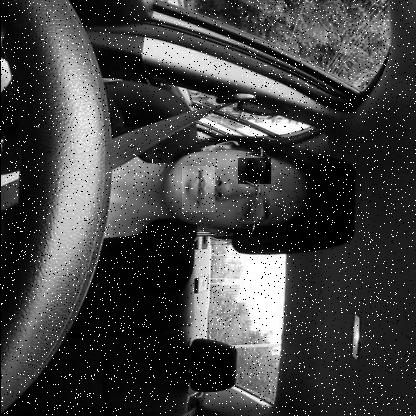seatbelt: (0, 109, 340, 259)
